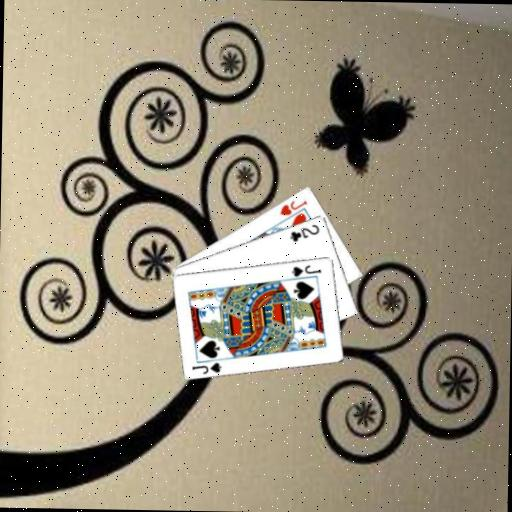2C: (287, 220, 321, 244)
JH: (277, 196, 309, 217)
JS: (289, 261, 323, 279), (189, 359, 223, 376)
